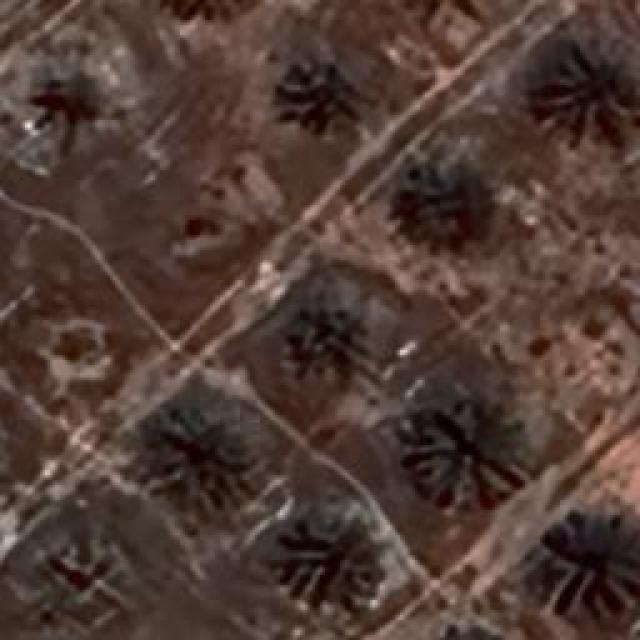PalmTree: (88, 59, 340, 332), (408, 400, 528, 502), (147, 408, 250, 502), (278, 508, 378, 602), (544, 35, 638, 130), (22, 56, 114, 146), (547, 518, 635, 610), (397, 165, 485, 255), (265, 61, 353, 149), (100, 10, 205, 59), (422, 618, 515, 640), (422, 624, 522, 640)
